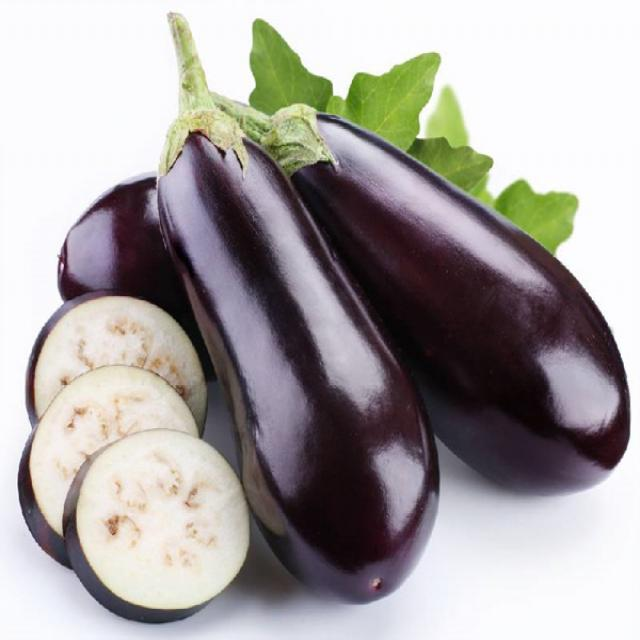eggplant: (145, 31, 432, 610), (22, 277, 258, 636)
